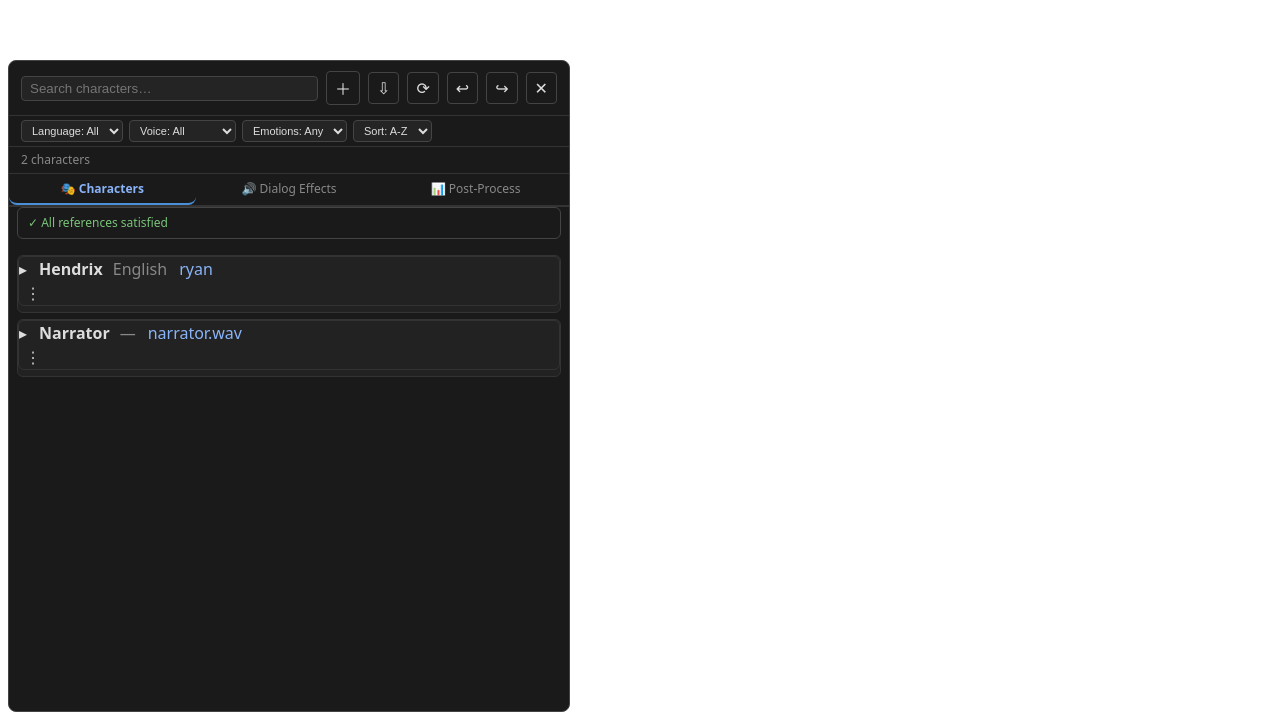
Test: CharacterVoiceDialog › switches to Post-Process tab on click
The image size is (1280, 720).
Check: the text "2 characters" is shown, box [21,151,90,168]
Click the tab with test id "tab-post-process". click: (476, 190)
box: [382,174,569,205]
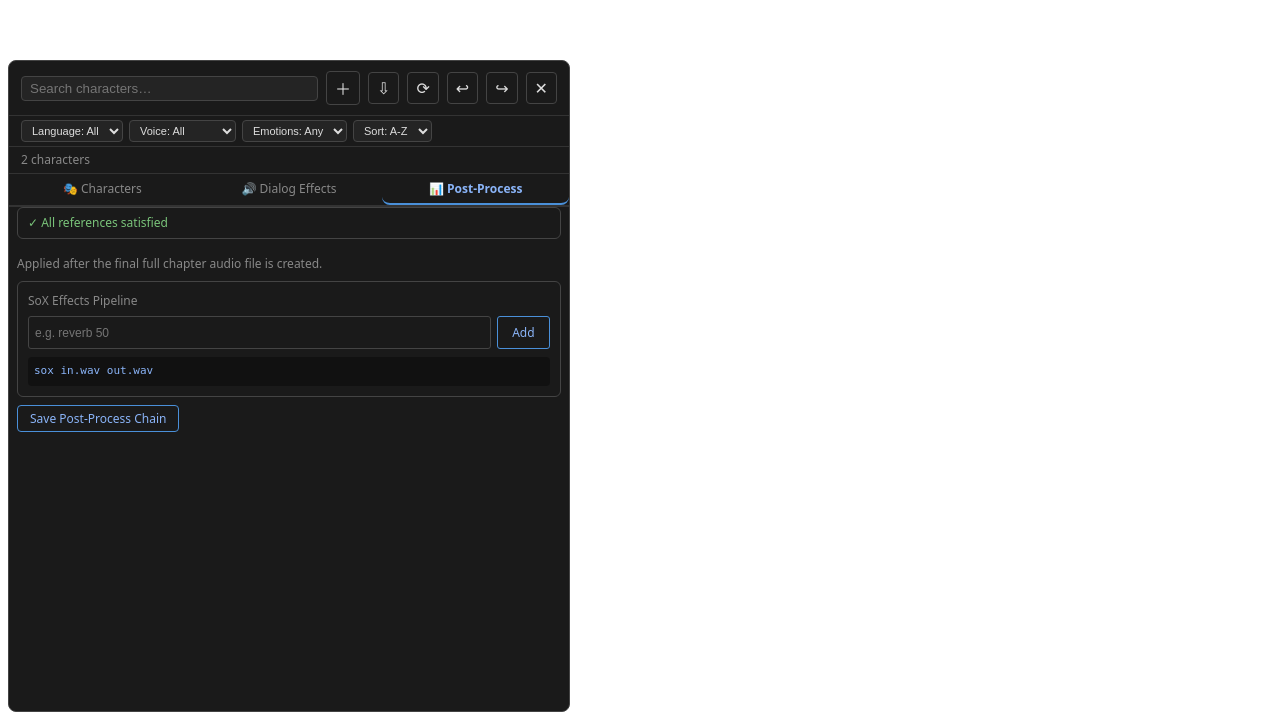
Check: the element with test id "post-process-tab" is shown, box [9,247,569,440]
